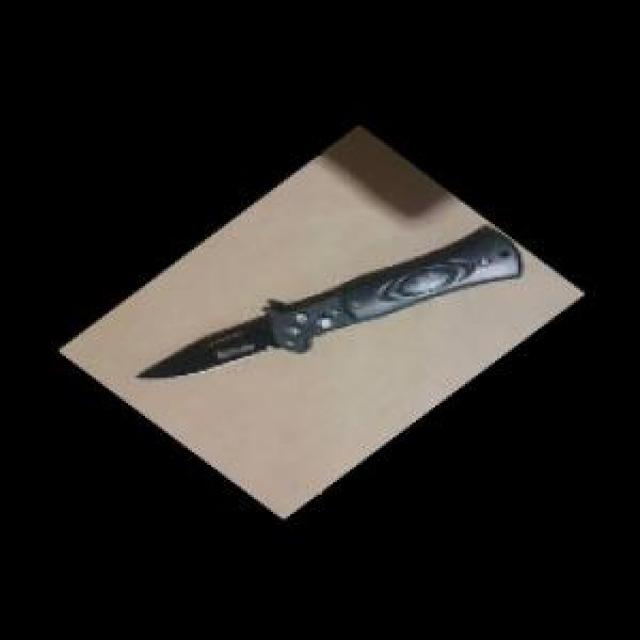knife: (132, 222, 531, 389)
